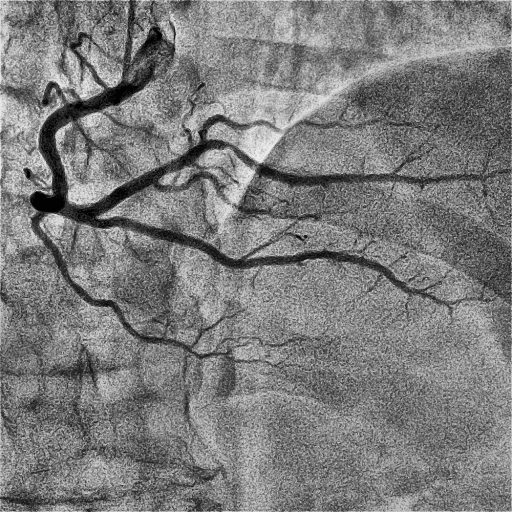pborca: (93, 139, 480, 215)
pda: (88, 214, 479, 306)
rca: (29, 79, 147, 227)
